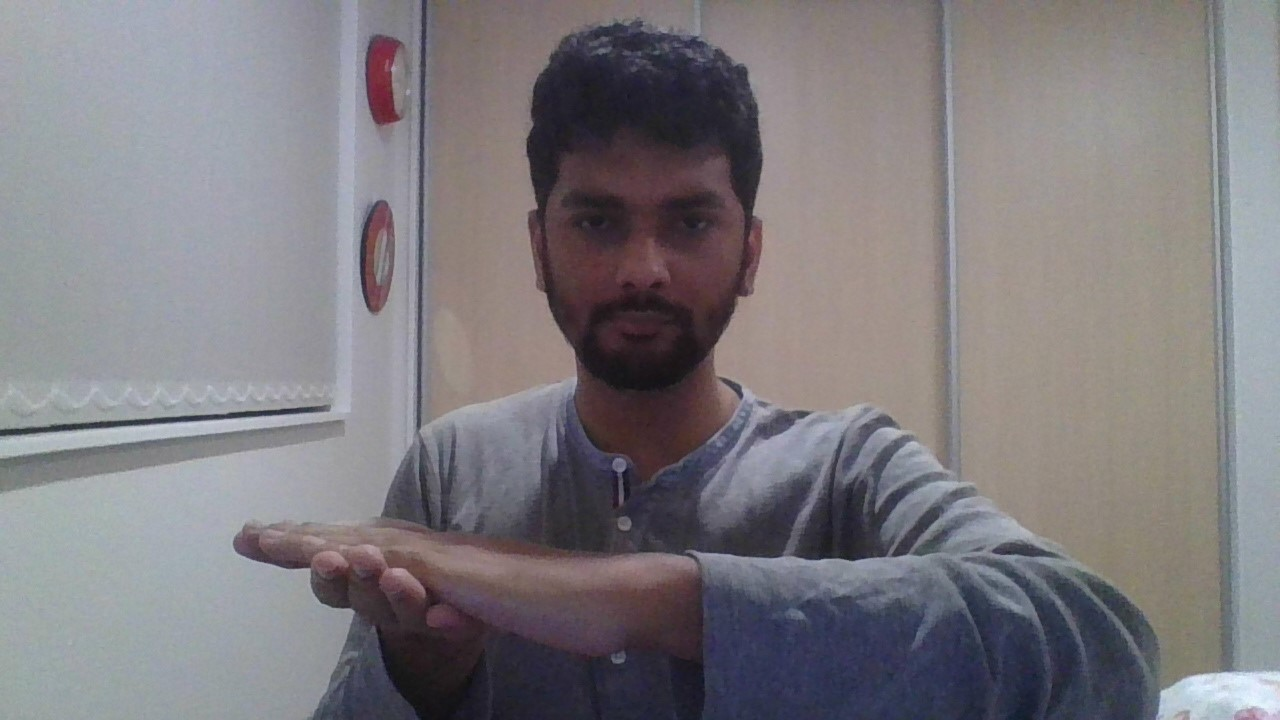clear: (233, 515, 637, 658)
